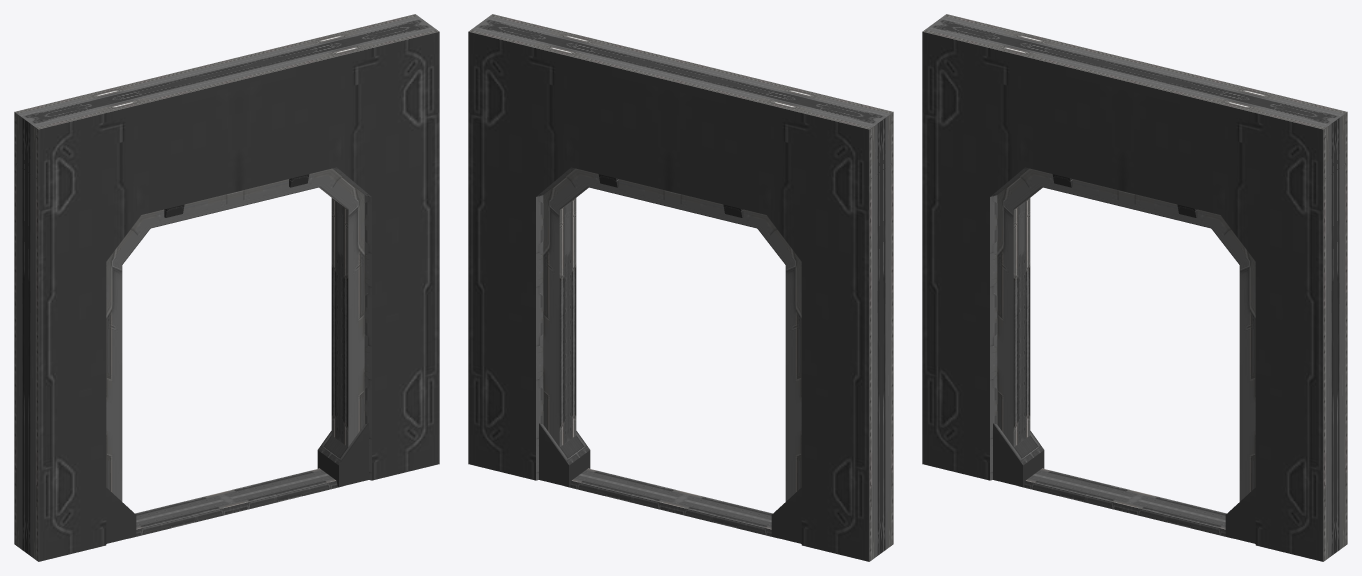
The model's file is sf_doorway_square.glb.
3 renders of one model, left to right at view 1: azimuth 30°, elevation 25°; view 2: azimuth 150°, elevation 25°; view 3: azimuth 330°, elevation 25°, orthographic.
Visible parts, largest first — view 1: Door_Frame_Square; view 2: Door_Frame_Square; view 3: Door_Frame_Square.
Part boxes in pixels (x1,y1,x2,y2): Door_Frame_Square: [14, 14, 439, 561]; Door_Frame_Square: [468, 14, 893, 561]; Door_Frame_Square: [922, 14, 1347, 561].
Size of the model in its own units: 4.85 by 5.01 by 0.5068.
Materials: 1 (1 with a texture image).
